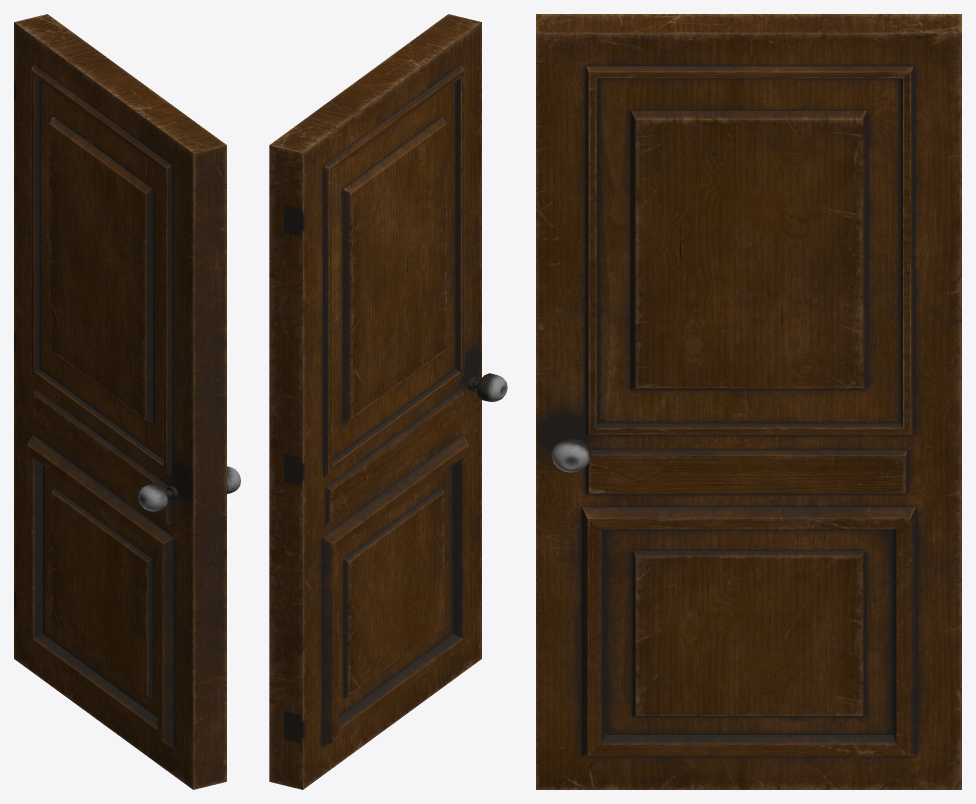
The model's file is door2.glb.
3 views of the same model, side by side, from view 1: azimuth 30°, elevation 25°; view 2: azimuth 150°, elevation 25°; view 3: azimuth 270°, elevation 25° (orthographic). The views are drawn at different scales.
Parts seen in each view (by area): view 1: door_door_0.001, handel_door_0.001; view 2: door_door_0.001, handel_door_0.001; view 3: door_door_0.001, handel_door_0.001.
Part boxes in pixels (x1,y1,x2,y2): door_door_0.001: (14, 14, 226, 789); handel_door_0.001: (138, 466, 240, 511); door_door_0.001: (269, 14, 481, 789); handel_door_0.001: (467, 373, 507, 401); door_door_0.001: (536, 14, 961, 789); handel_door_0.001: (551, 438, 590, 472).
Bounding box in the file's own units: 0.4562 × 2.93 × 1.5.
Materials: 1 (1 with a texture image).
